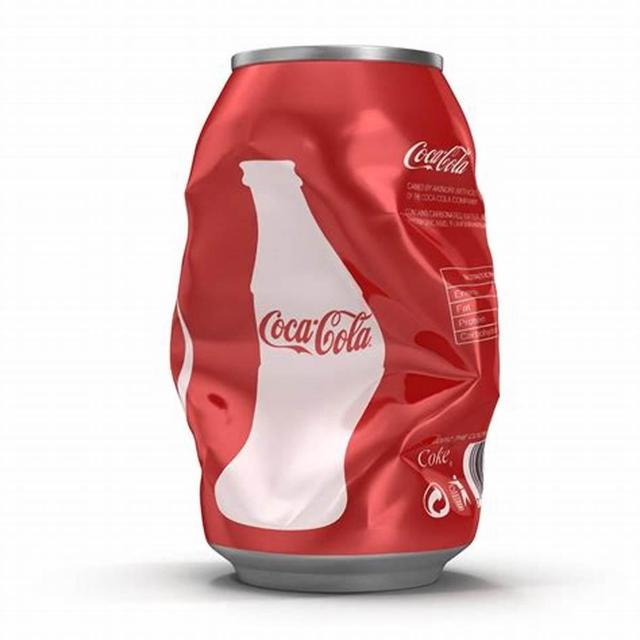lata: (170, 43, 502, 595)
